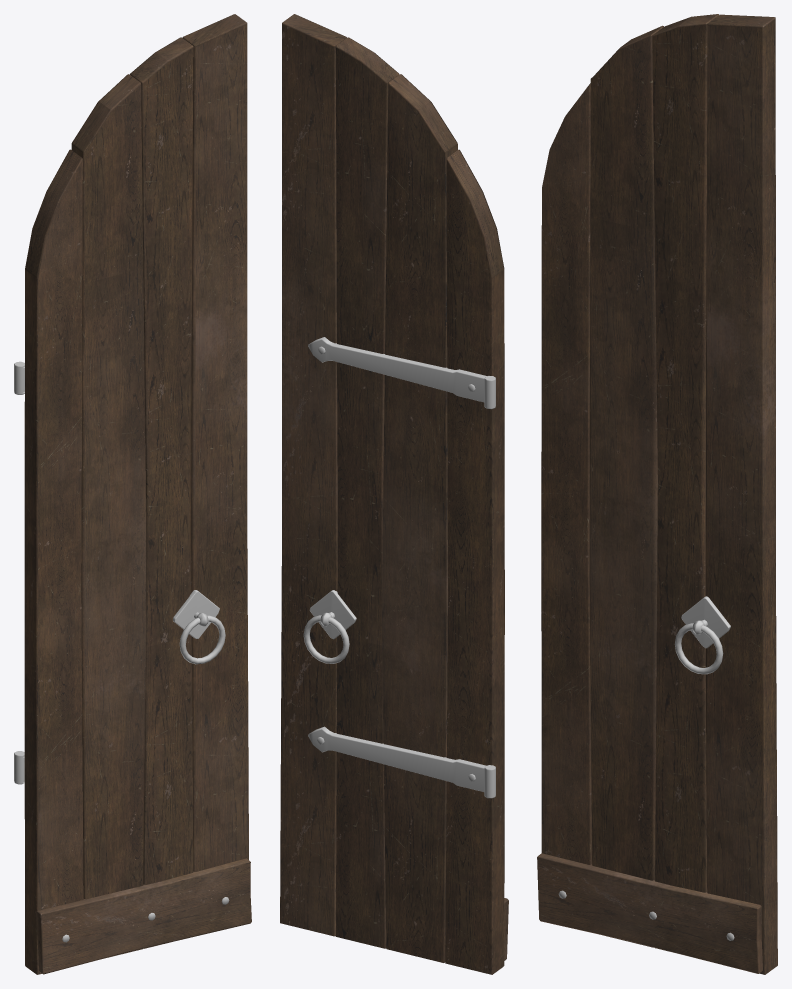
The model's file is SM_Wooden_Door_01_L.fbx.
3 views of the same model, side by side, from view 1: azimuth 30°, elevation 25°; view 2: azimuth 150°, elevation 25°; view 3: azimuth 330°, elevation 25° (orthographic). The views are drawn at different scales.
Parts seen in each view (by area): view 1: SM_Wooden_Door_01_L_LOD0; view 2: SM_Wooden_Door_01_L_LOD0; view 3: SM_Wooden_Door_01_L_LOD0.
Boxes of the visible parts, x1,y1,x2,y2 form: SM_Wooden_Door_01_L_LOD0: [14, 14, 251, 974]; SM_Wooden_Door_01_L_LOD0: [280, 14, 508, 974]; SM_Wooden_Door_01_L_LOD0: [537, 14, 777, 974].
Size of what is drawn, in the model's own units: 104 by 407 by 28.91.
